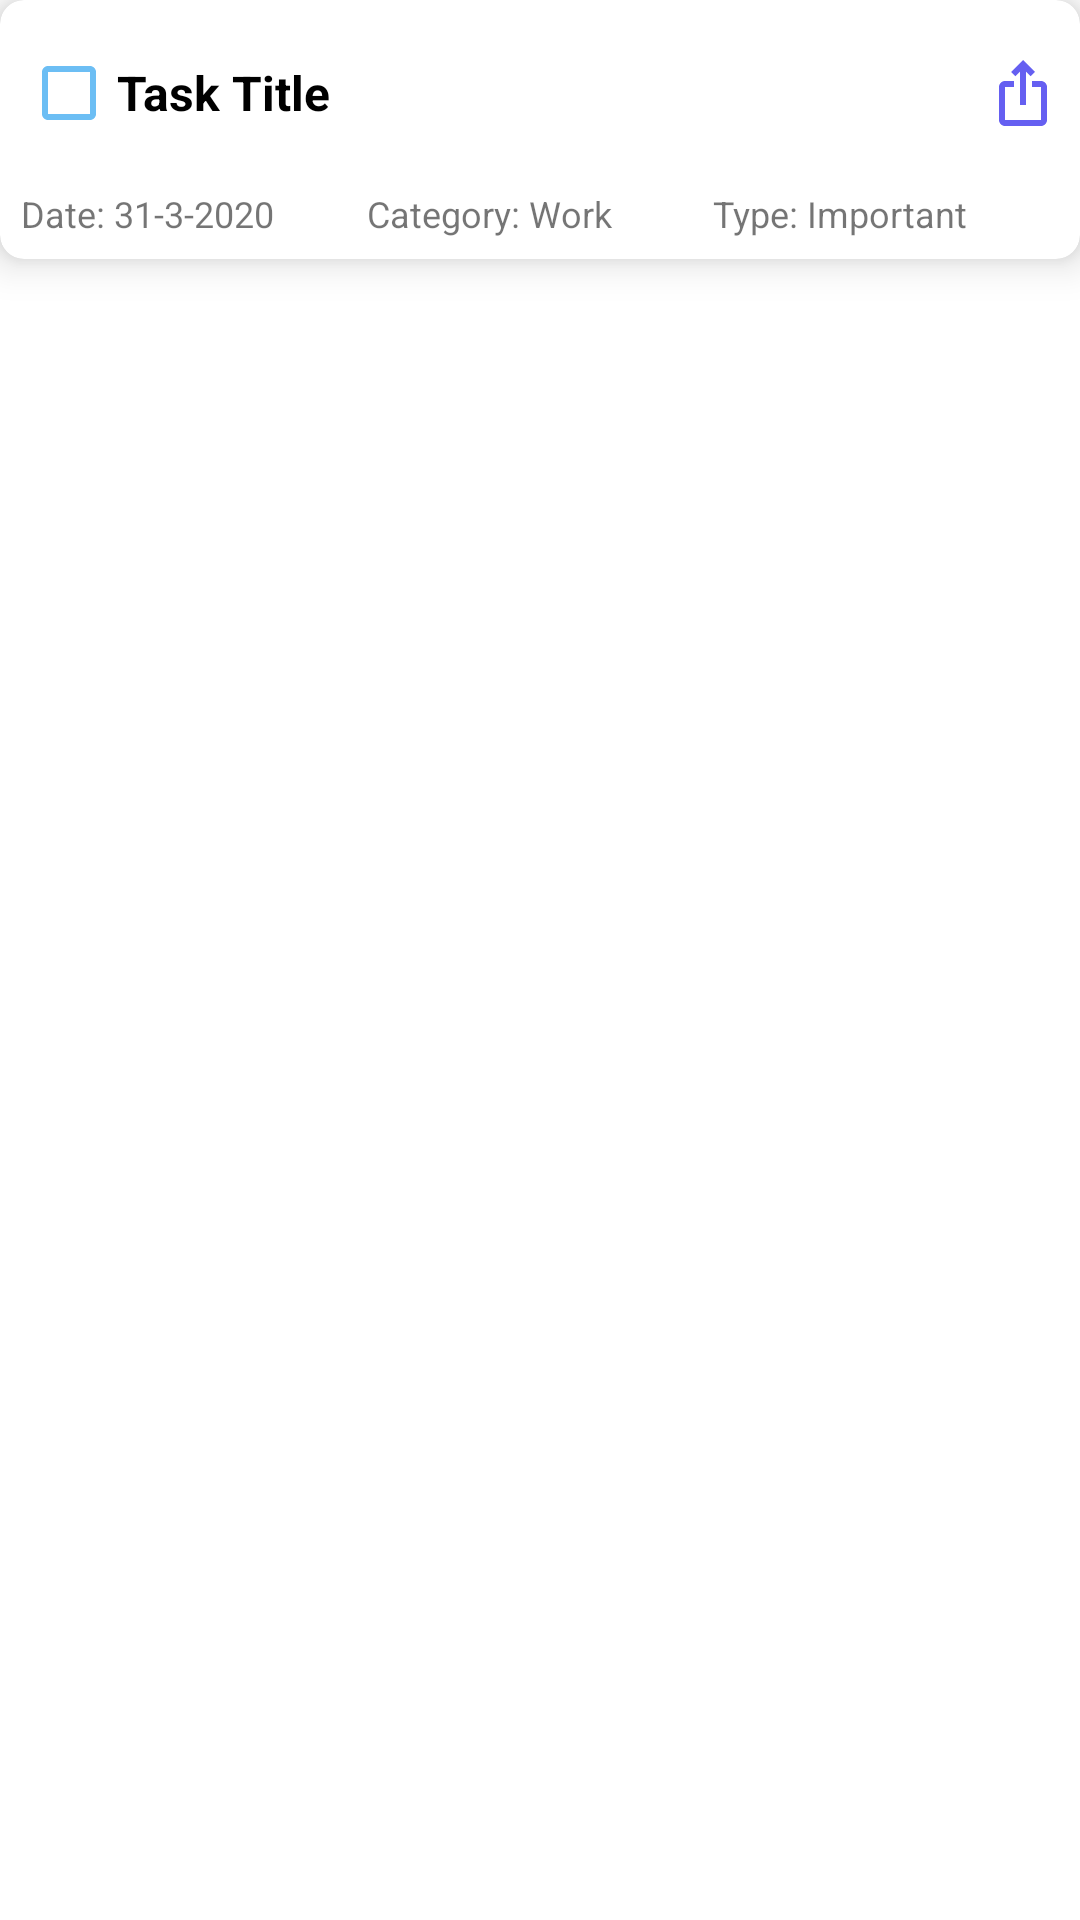

Screen size 1080 × 1920. Icon name, then its box in pixels as (x1, y1, x2, y2):
share: (999, 60, 1047, 126)
